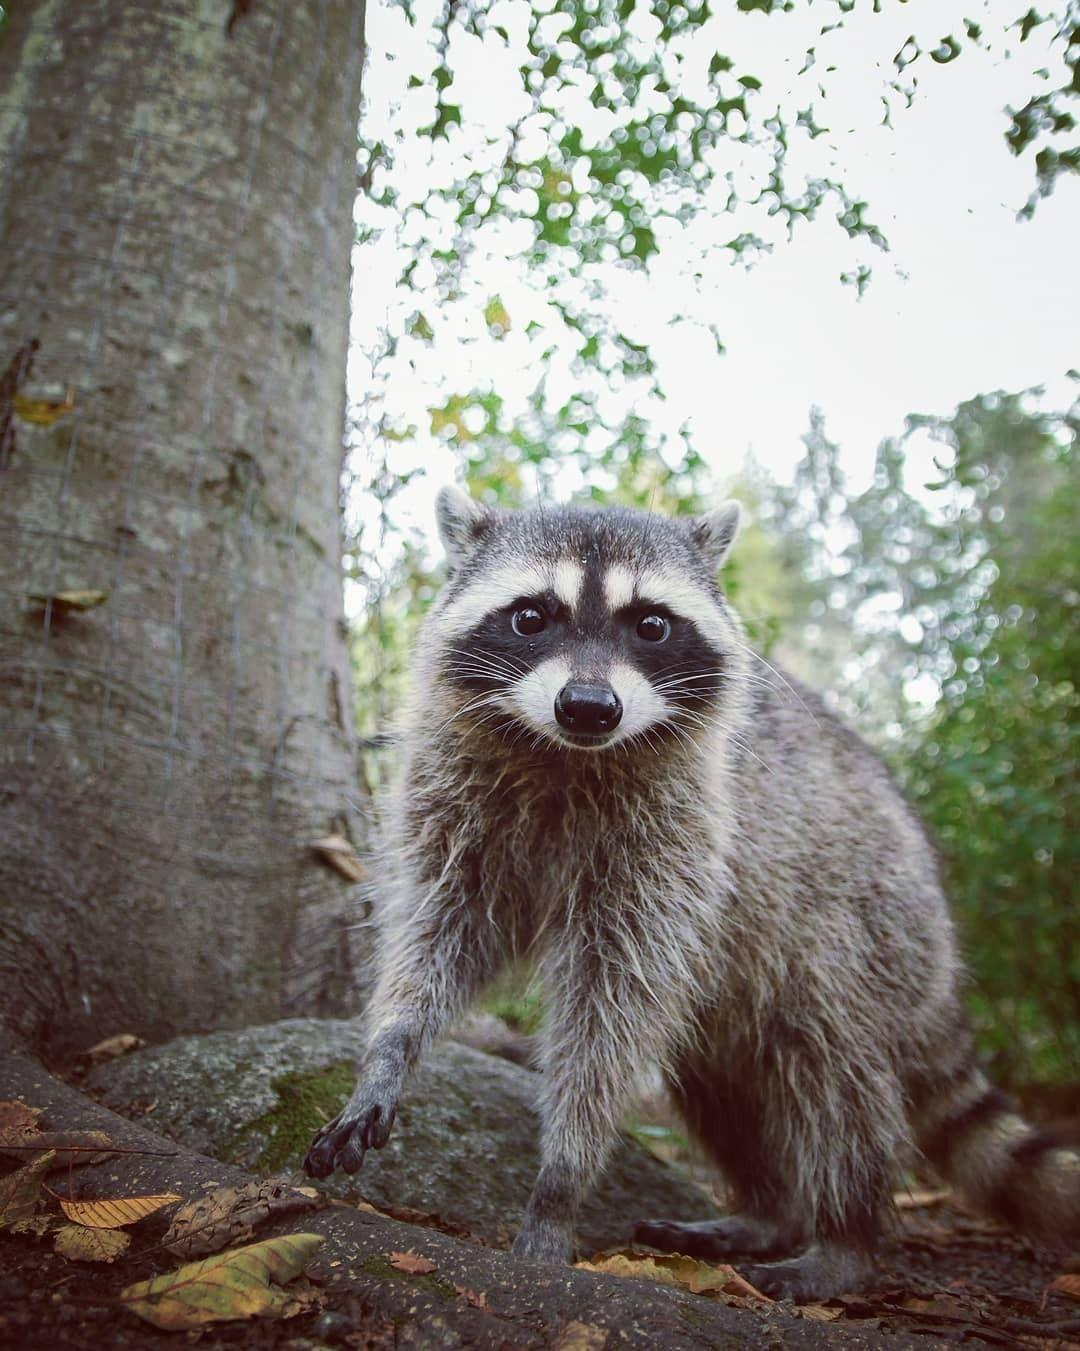raccoon: (298, 480, 1080, 1312)
